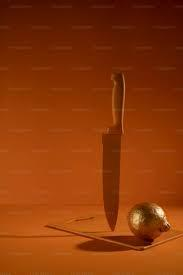Knife: (101, 70, 125, 231)
